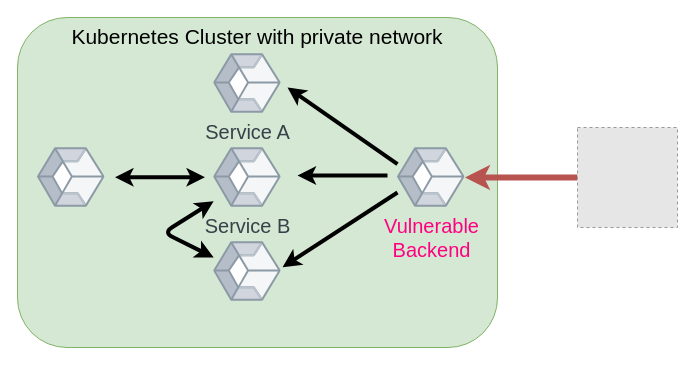
The diagram is 695 pixels wide and 365 high, and some of its shapes have lost their labels. Grey dashed boxes stand in for pictures. The centre of each missing label's shape, as x and y in pixels:
Service C: point 247,271
Vulnerable Service: point 70,177
